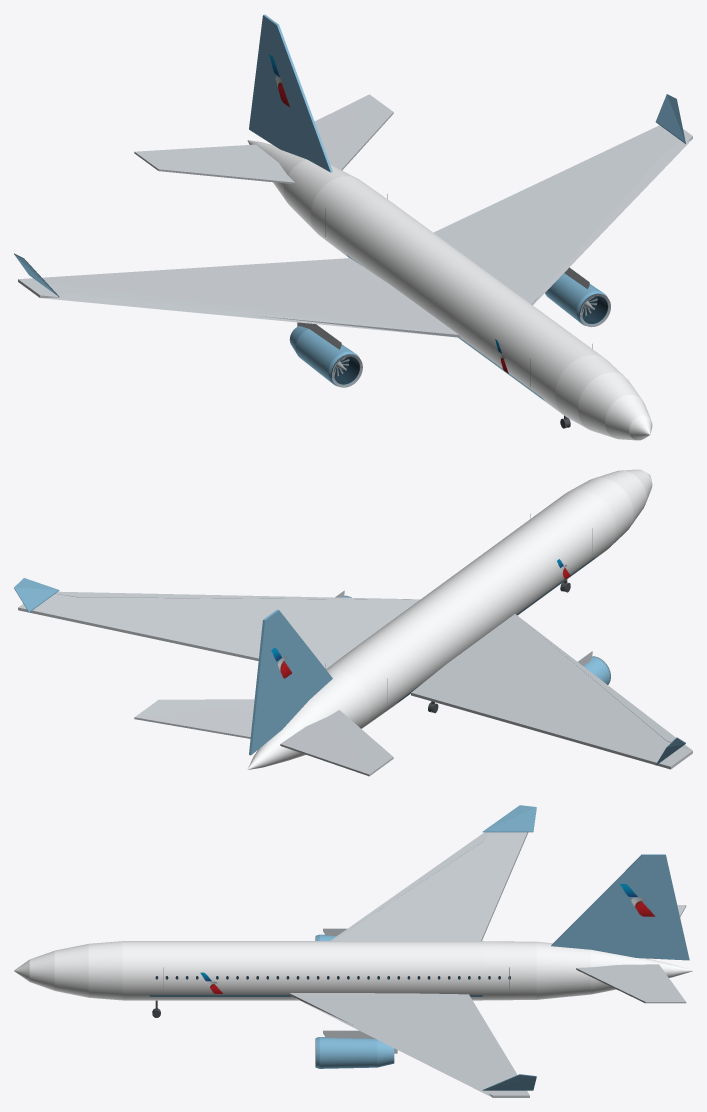
File: a330-AAL-v4.gltf
3 views of the same model, one above another, from view 1: azimuth 30°, elevation 25°; view 2: azimuth 150°, elevation 25°; view 3: azimuth 270°, elevation 25° (orthographic). The views are drawn at different scales.
Parts seen in each view (by area): view 1: object 1; view 2: object 1; view 3: object 1.
Part boxes in pixels (x1,y1,x2,y2): object 1: [14, 14, 692, 440]; object 1: [14, 469, 692, 776]; object 1: [14, 805, 692, 1097].
Bounding box in the file's own units: 60 × 16.88 × 64.
Materials: 8 (1 with a texture image).
